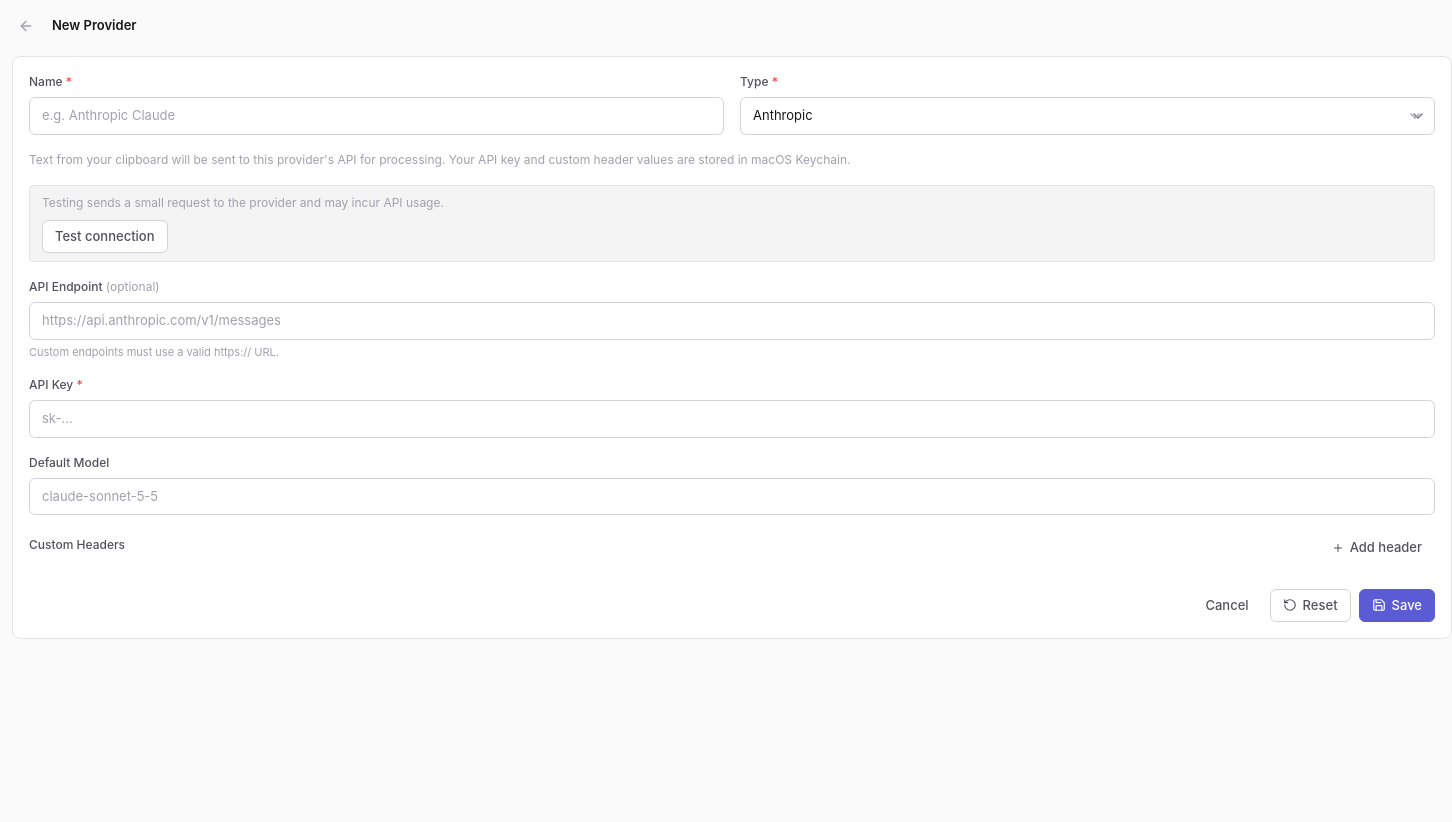
Test: ProviderForm › switching type to cli hides API fields and shows CLI fields
Select "CLI (claude/codex/copilot)" in the dropdown labelled "Type": (1088, 116) [740,97,1435,134]
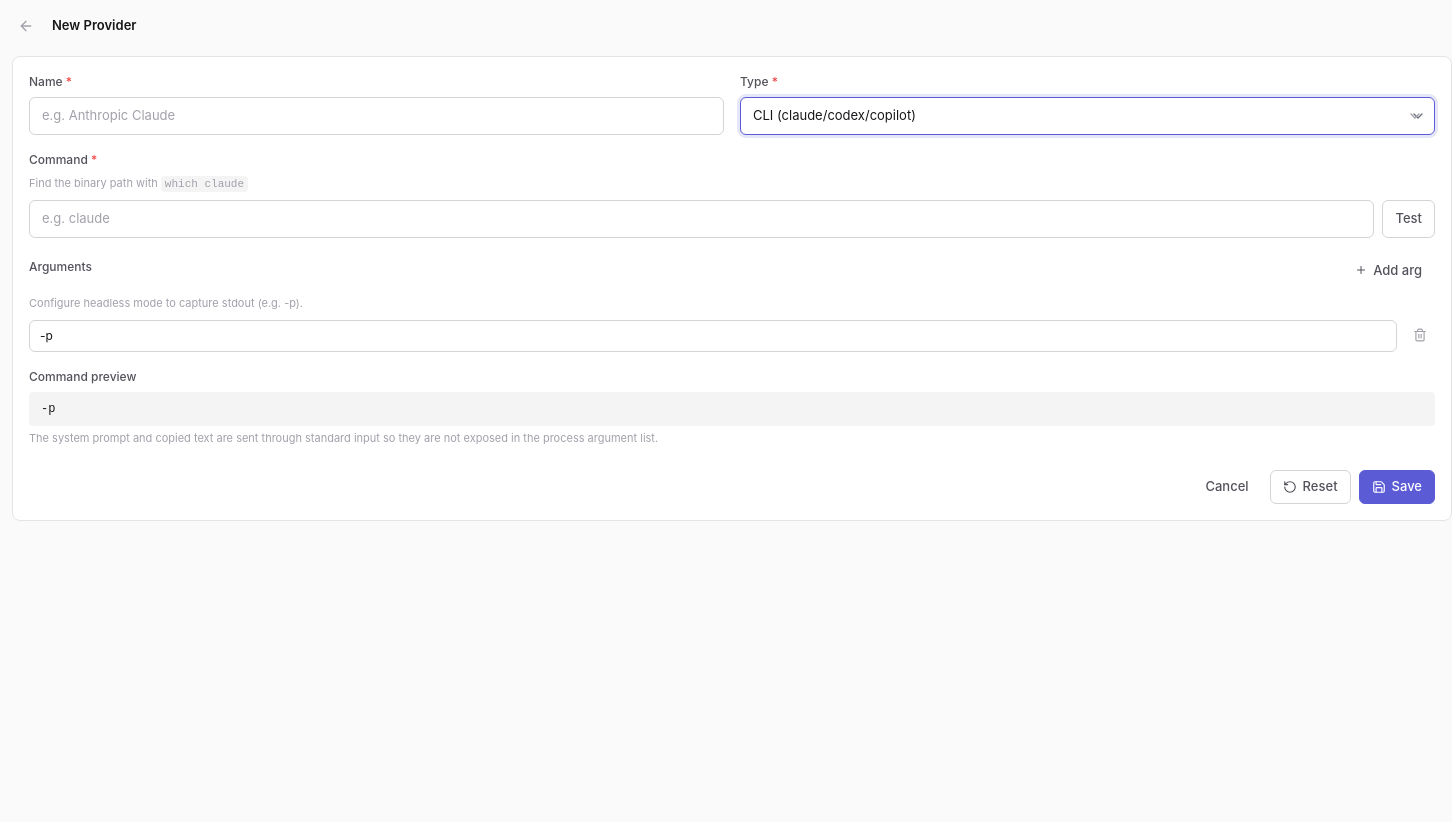
Now the password field with placeholder "sk-..." is gone
Now the field with placeholder "e.g. claude" is shown, box [29,200,1374,238]
